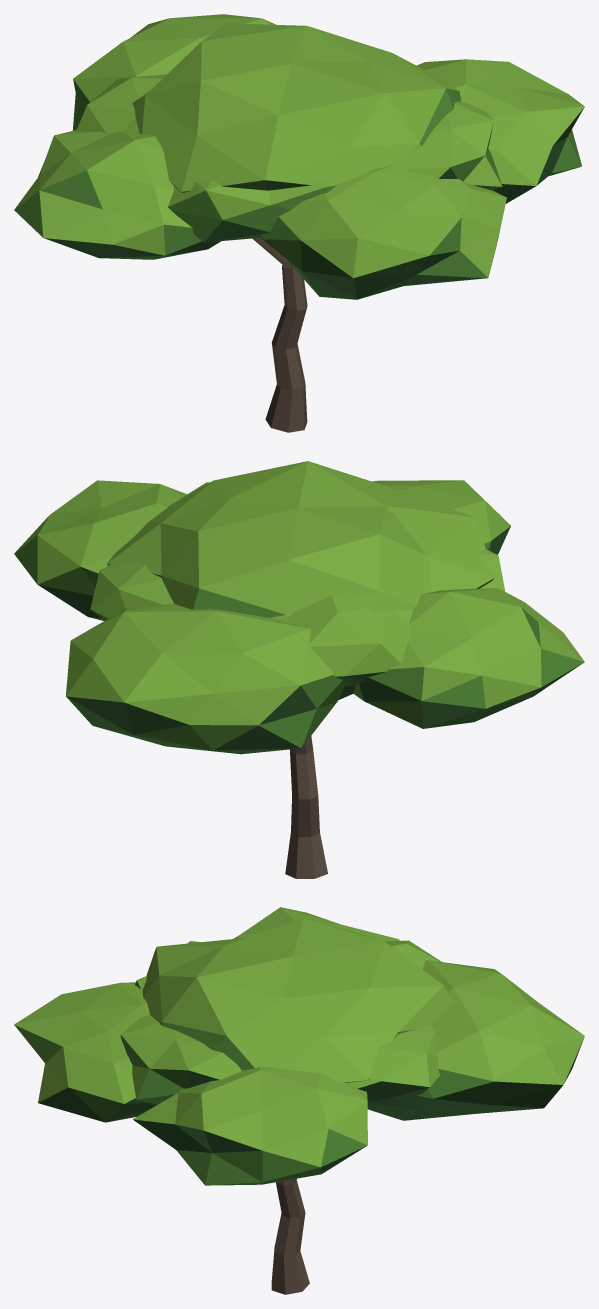
The model's file is T04_RainTreeYoung.glb.
The picture shows the model from 3 angles, top to bottom: view 1: azimuth 30°, elevation 25°; view 2: azimuth 150°, elevation 25°; view 3: azimuth 270°, elevation 25°; orthographic projection. The views are drawn at different scales.
Parts seen in each view (by area): view 1: T04_RainTreeYoung; view 2: T04_RainTreeYoung; view 3: T04_RainTreeYoung.
Part boxes in pixels (bbox=[...]): T04_RainTreeYoung: bbox=[14, 14, 584, 432]; T04_RainTreeYoung: bbox=[14, 461, 584, 878]; T04_RainTreeYoung: bbox=[14, 907, 584, 1294].
Size of the model in its own units: 6.84 by 4.44 by 6.89.
